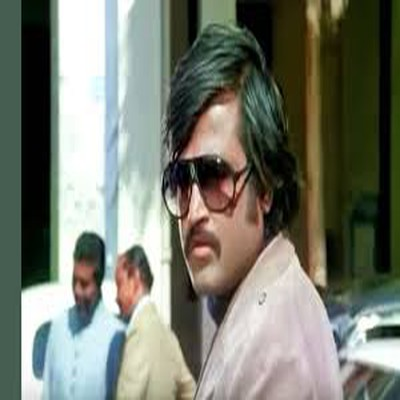eywear: (142, 153, 271, 221)
